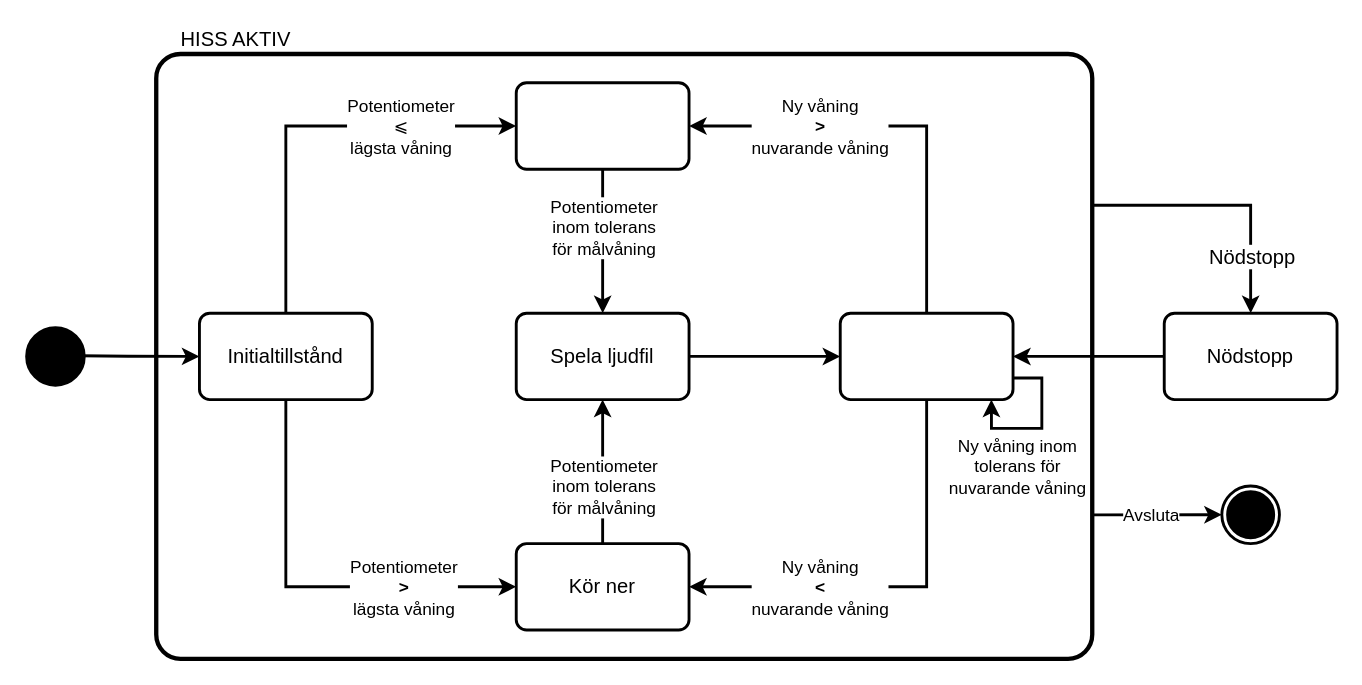
This 1362x685 diagram has some shape labels left out. Each missing label, with the box of its shape:
Kör upp: (514, 81, 690, 170)
Vänta på input: (838, 311, 1014, 400)
